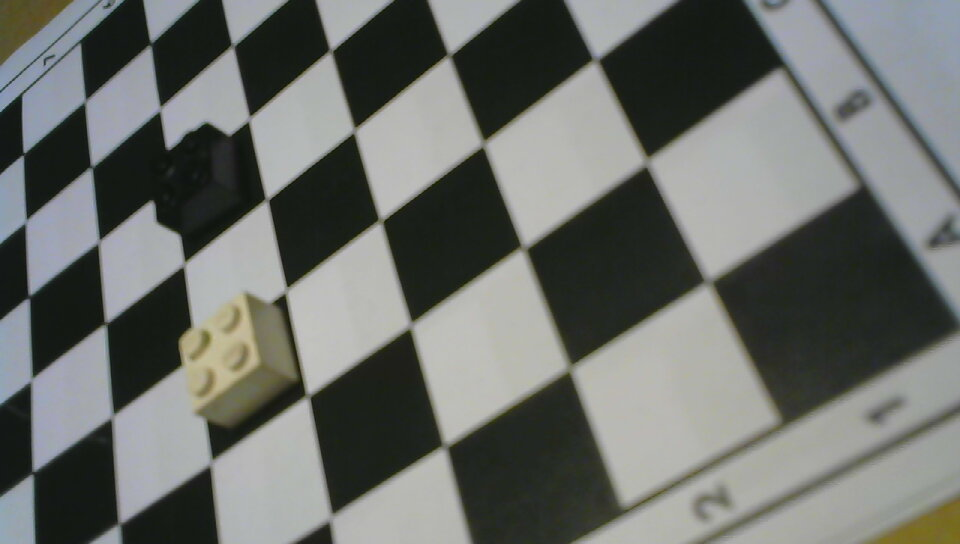bp: (147, 118, 248, 238)
